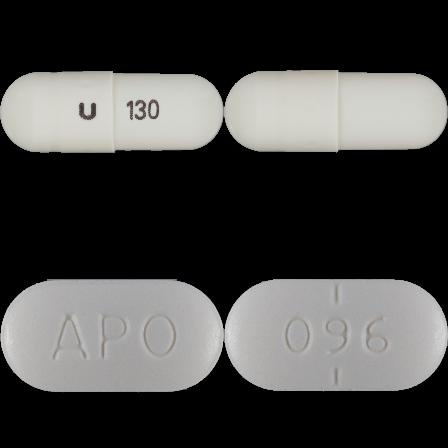50090-0724: (0, 0, 224, 224)
